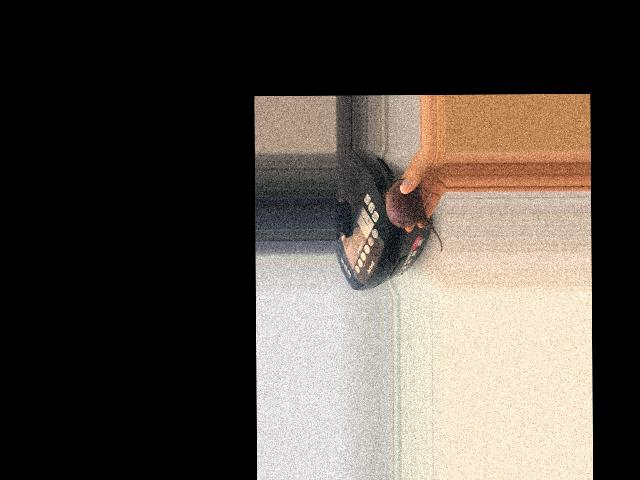beet: (383, 178, 442, 252)
